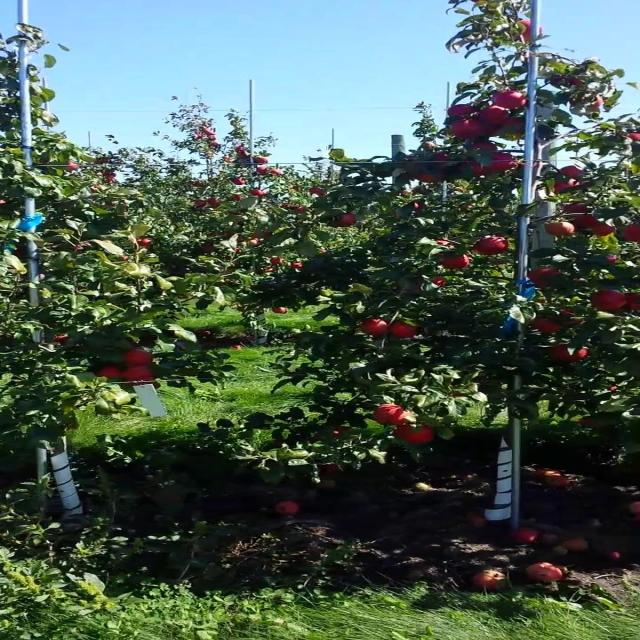apple: (376, 404, 412, 426), (589, 292, 626, 312), (397, 428, 434, 445), (490, 120, 526, 137), (454, 120, 484, 140), (532, 268, 562, 287), (476, 240, 510, 256), (568, 96, 604, 111), (497, 92, 528, 109), (554, 348, 590, 362), (362, 320, 391, 336), (490, 156, 519, 172), (127, 368, 156, 384), (390, 324, 420, 339), (483, 108, 512, 123), (554, 180, 585, 194), (525, 20, 546, 40), (440, 256, 471, 269), (319, 428, 350, 441), (127, 352, 156, 365), (589, 224, 617, 237), (532, 320, 562, 332), (547, 224, 576, 236), (419, 172, 446, 184), (561, 204, 590, 215), (326, 428, 350, 440), (625, 224, 639, 244), (575, 216, 597, 228), (99, 368, 123, 379), (561, 312, 583, 324), (447, 108, 476, 117), (468, 164, 489, 176), (319, 464, 341, 475), (561, 168, 583, 177), (340, 216, 356, 228), (582, 420, 606, 428), (476, 144, 498, 152), (433, 152, 450, 162), (582, 420, 603, 427), (632, 292, 639, 311), (56, 336, 71, 344), (433, 280, 448, 288), (568, 80, 583, 87), (442, 240, 453, 247), (611, 256, 619, 264)
